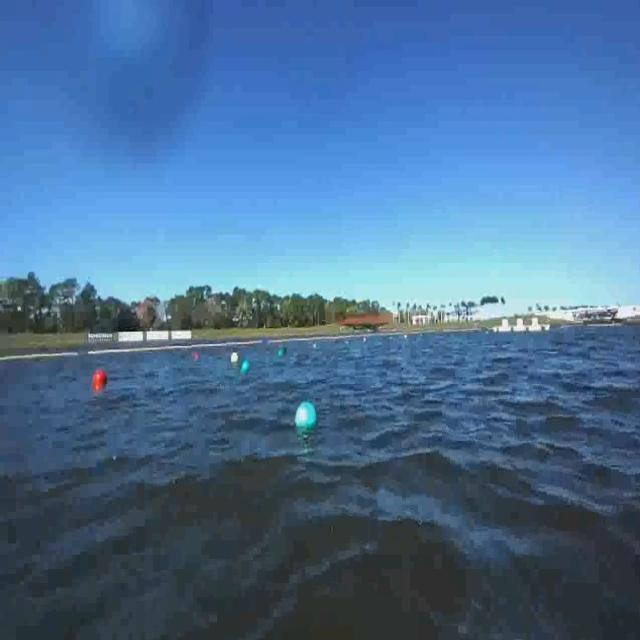green-buoy: (294, 402, 317, 435), (242, 358, 251, 374)
red-buoy: (92, 368, 106, 384)
